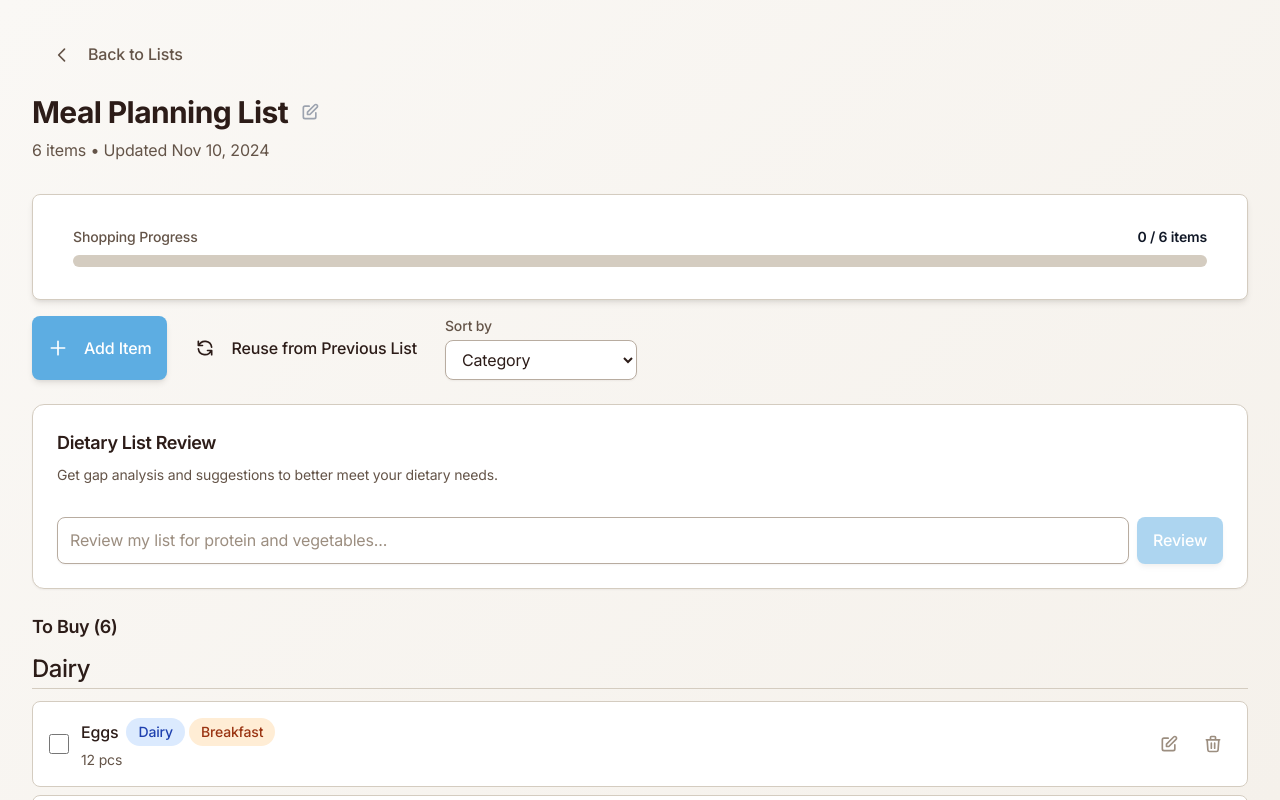
Test: GroceryListDetailPage - Meal-Based Sorting › should handle editing items with meal types
Check: the heading "Meal Planning List" is shown, box [32, 94, 288, 130]
Click edit button on first item (Cereal)
Click the button named "Edit item" at (1169, 744), box [1151, 726, 1187, 762]
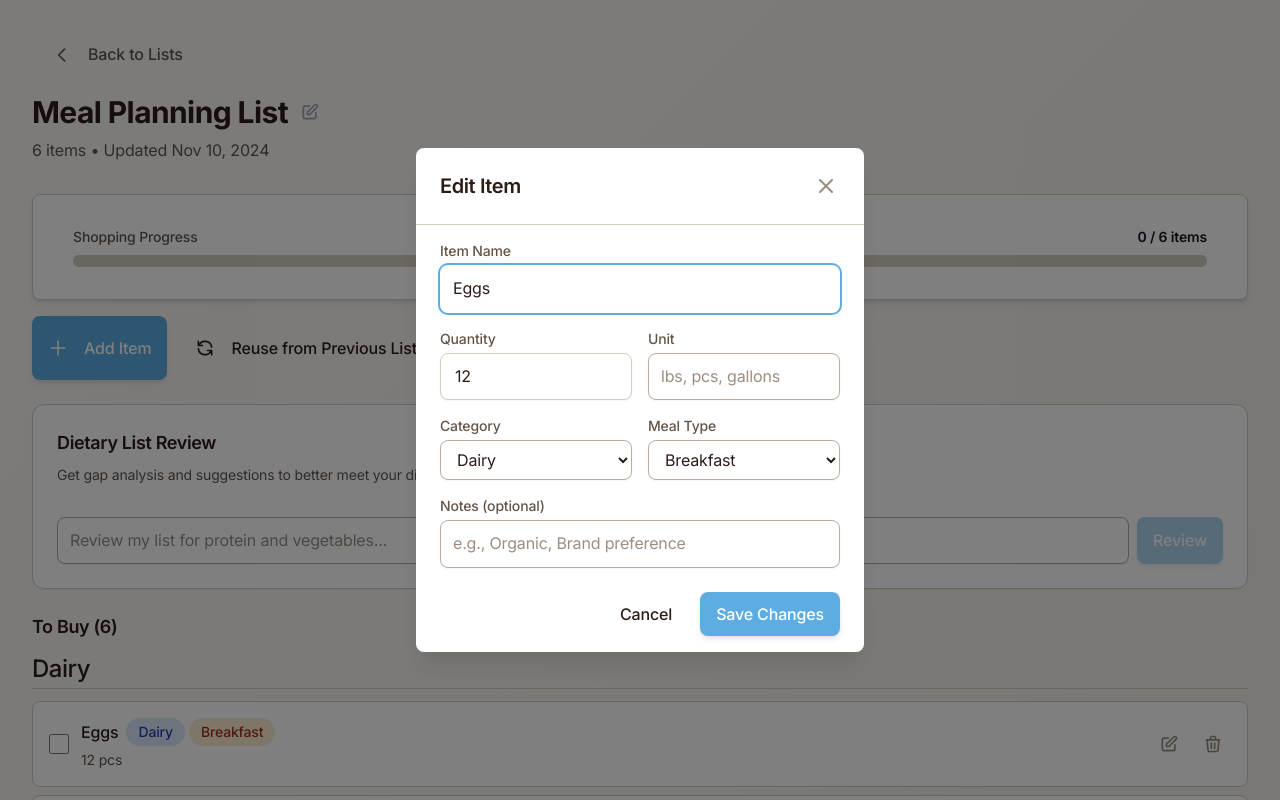
Check: the heading "Edit Item" is shown, box [440, 172, 521, 200]
Check: the text "Meal Type" is shown, box [648, 417, 716, 434]
Check: the dropdown showing "Breakfast" is shown, box [648, 440, 840, 480]
